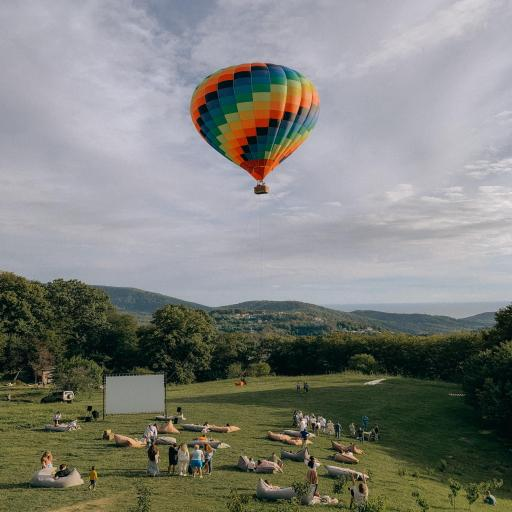hot air ballon: (187, 58, 323, 202)
